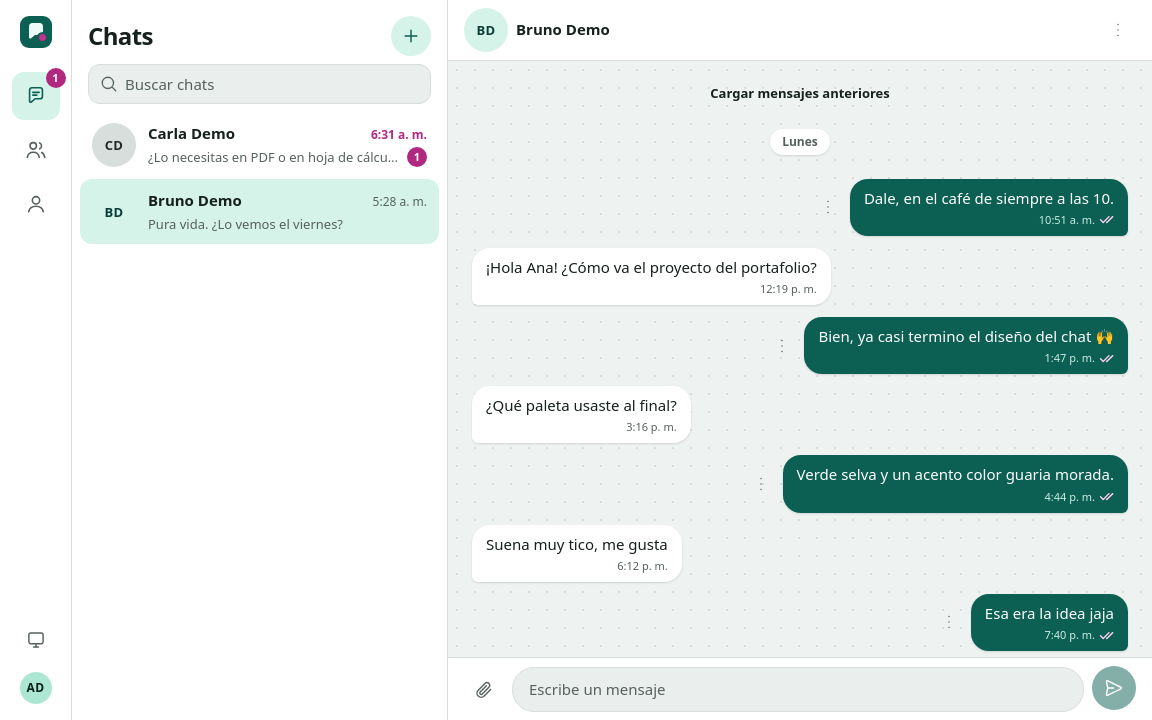
conversación › carga el historial reciente y ofrece cargar mensajes anteriores (scroll infinito)
The width and height of the screenshot is (1152, 720).
Click the button "Cargar mensajes anteriores" at [800, 93], box top-left (698, 77), bottom-right (902, 109)
(page scrolled)
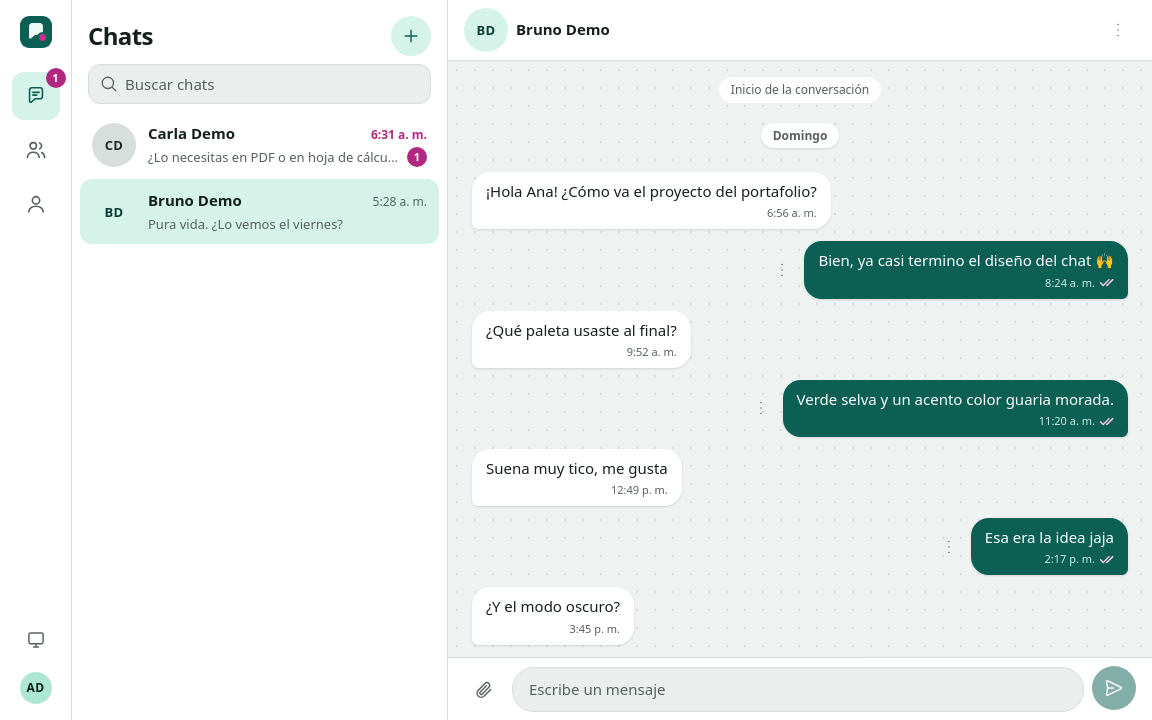
Expected: the text "Inicio de la conversación" is shown, top-left (719, 77), bottom-right (881, 103)
